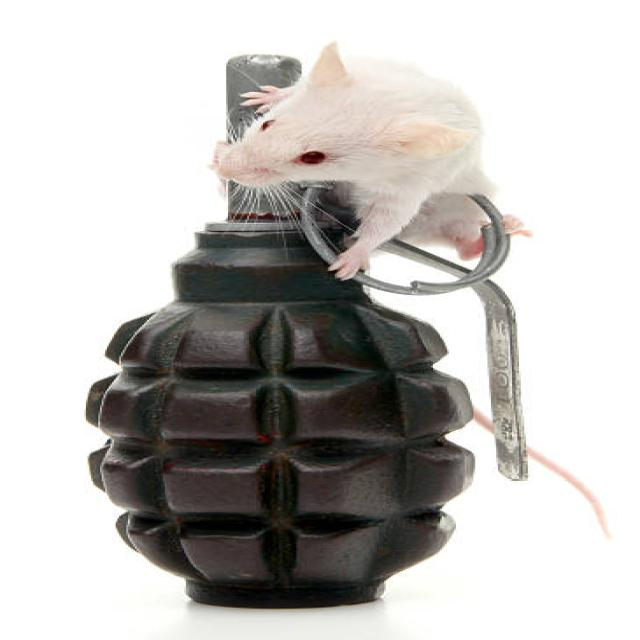grenade: (68, 45, 541, 616)
